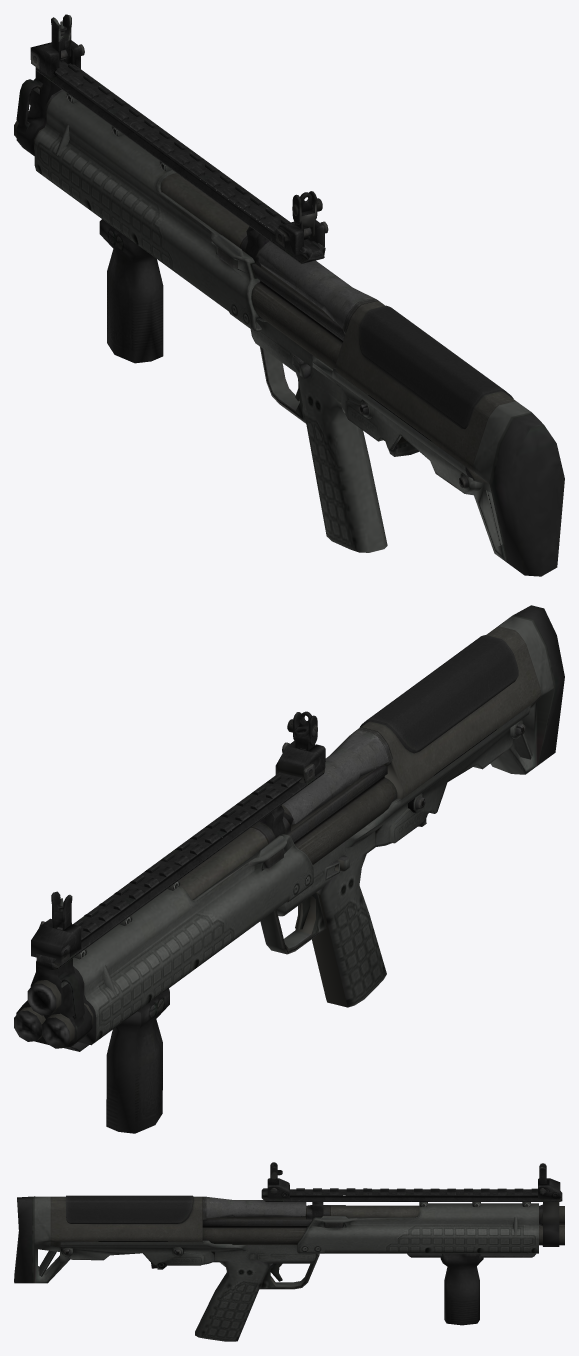
The model's file is shotgun.glb.
The picture shows the model from 3 angles, top to bottom: view 1: azimuth 30°, elevation 25°; view 2: azimuth 150°, elevation 25°; view 3: azimuth 270°, elevation 25°; orthographic projection. The views are drawn at different scales.
Bounding box in the file's own units: 5.29 × 23.43 × 66.98.
Materials: 2 (2 with a texture image).
